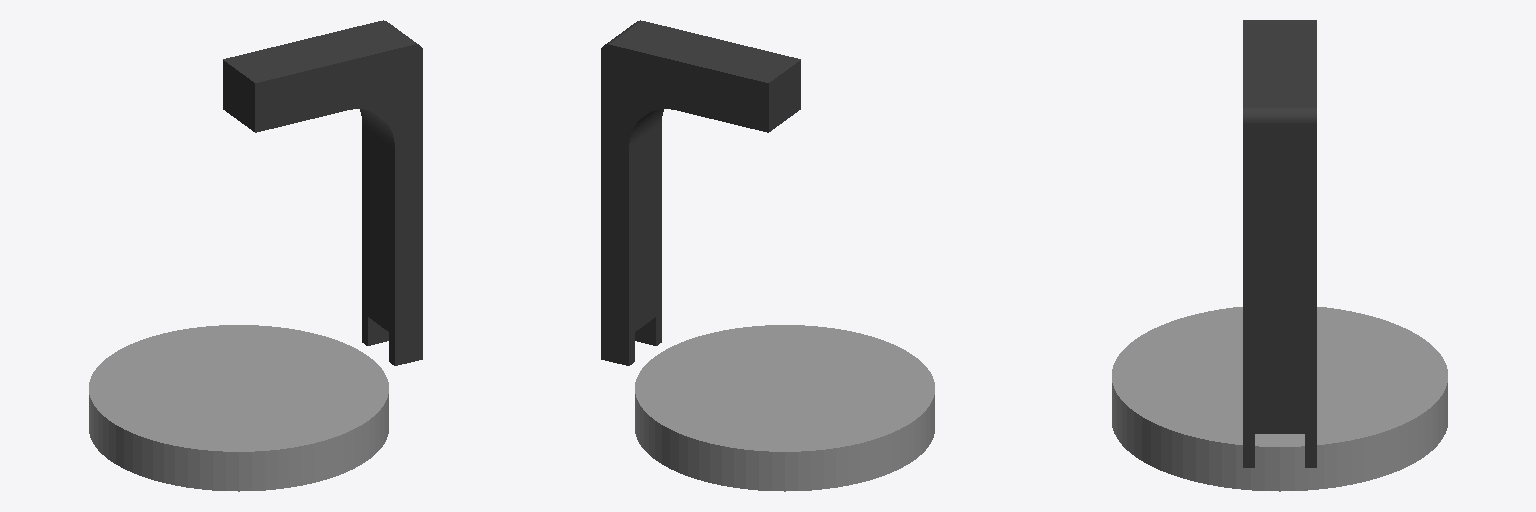
The robot description file, URDF, robot "base-camera-stand":
<?xml version="1.0" ?>
<!-- Generated using onshape-to-robot -->
<!-- Onshape https://cad.onshape.com/documents/d2a23bae68f35bdc0ae84dd2/w/80da26b3feeb954c36e05d0c/e/a40091738c79eff2b3f6b474 -->
<robot name="base-camera-stand">
  <!-- Link base -->
  <link name="base">
    <inertial>
      <origin xyz="0 0 0" rpy="0 0 0"/>
      <mass value="1e-09"/>
      <inertia ixx="1e-09" ixy="0" ixz="0" iyy="1e-09" iyz="0" izz="1e-09"/>
    </inertial>
    <!-- Part base -->
    <visual>
      <origin xyz="-0.015 0 0" rpy="-0 0 -0"/>
      <geometry>
        <mesh filename="assets/base.stl"/>
      </geometry>
      <material name="base_material">
        <color rgba="0.8 0.776471 0.713725 1"/>
      </material>
    </visual>
    <collision>
      <origin xyz="-0.015 0 0" rpy="-0 0 -0"/>
      <geometry>
        <mesh filename="assets/base.stl"/>
      </geometry>
    </collision>
  </link>
  <!-- Link base_plate -->
  <link name="base_plate">
    <inertial>
      <origin xyz="0 0 0" rpy="0 0 0"/>
      <mass value="1e-09"/>
      <inertia ixx="1e-09" ixy="0" ixz="0" iyy="1e-09" iyz="0" izz="1e-09"/>
    </inertial>
    <!-- Part base_plate -->
    <visual>
      <origin xyz="-0.015 -0 -0.02" rpy="-0 0 -0"/>
      <geometry>
        <mesh filename="assets/base_plate.stl"/>
      </geometry>
      <material name="base_plate_material">
        <color rgba="0.647059 0.647059 0.647059 1"/>
      </material>
    </visual>
    <collision>
      <origin xyz="-0.015 -0 -0.02" rpy="-0 0 -0"/>
      <geometry>
        <mesh filename="assets/base_plate.stl"/>
      </geometry>
    </collision>
  </link>
  <!-- Joint from base to base_plate -->
  <joint name="base-and-bottom-plate" type="fixed">
    <origin xyz="0 0 0.02" rpy="-0 0 -0"/>
    <parent link="base"/>
    <child link="base_plate"/>
    <axis xyz="0 0 1"/>
    <limit effort="10" velocity="10"/>
  </joint>
  <!-- Link camera_stand -->
  <link name="camera_stand">
    <inertial>
      <origin xyz="0 0 0" rpy="0 0 0"/>
      <mass value="1e-09"/>
      <inertia ixx="1e-09" ixy="0" ixz="0" iyy="1e-09" iyz="0" izz="1e-09"/>
    </inertial>
    <!-- Part camera_stand -->
    <visual>
      <origin xyz="0.015 -0.015 -0.01" rpy="-1.5708 -0 -0"/>
      <geometry>
        <mesh filename="assets/camera_stand.stl"/>
      </geometry>
      <material name="camera_stand_material">
        <color rgba="0.301961 0.301961 0.301961 1"/>
      </material>
    </visual>
    <collision>
      <origin xyz="0.015 -0.015 -0.01" rpy="-1.5708 -0 -0"/>
      <geometry>
        <mesh filename="assets/camera_stand.stl"/>
      </geometry>
    </collision>
  </link>
  <!-- Joint from base to camera_stand -->
  <joint name="base-and-camera-stand" type="fixed">
    <origin xyz="0.1625 0.02 0.055" rpy="1.5708 0 -0"/>
    <parent link="base"/>
    <child link="camera_stand"/>
    <axis xyz="0 0 1"/>
    <limit effort="10" velocity="10"/>
  </joint>
</robot>

--- What the picture shows (computed from the rendered views, not written in the file) ---
The picture shows the robot from 3 angles, left to right: view 1: azimuth 30°, elevation 25°; view 2: azimuth 150°, elevation 25°; view 3: azimuth 270°, elevation 25°; orthographic projection.
Model base-camera-stand with 3 links and 2 joints (2 fixed), rooted at base, posed all joints at 0.
Links seen in each view (by area): view 1: base_plate, camera_stand; view 2: base_plate, camera_stand; view 3: base_plate, camera_stand.
Boxes of the visible links, x1,y1,x2,y2 form: base_plate: [89, 325, 388, 491]; camera_stand: [223, 20, 422, 365]; base_plate: [635, 325, 934, 491]; camera_stand: [601, 20, 800, 365]; base_plate: [1112, 307, 1447, 491]; camera_stand: [1243, 20, 1316, 467].
Size in the robot's own frame: 0.315 by 0.275 by 0.36 metres.
2 mesh visuals loaded from 3 distinct referenced files (2 binary STL); not drawn: 1 (reference not matched to a file when rendering).
